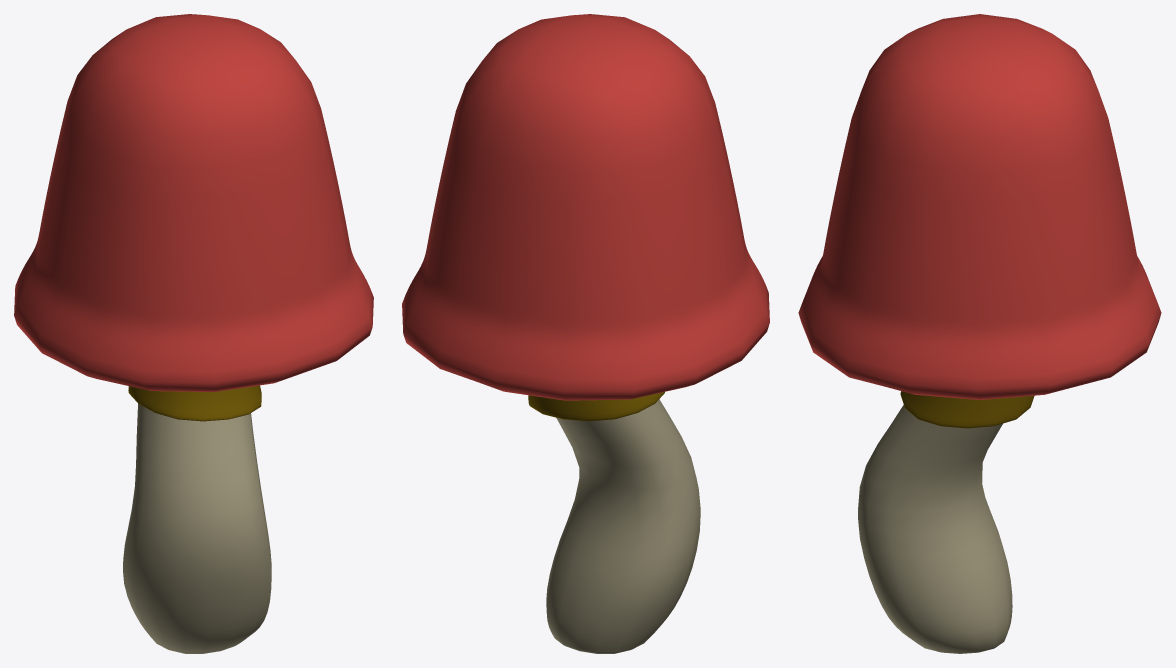
File: Mushroom_1_Small_Brown.fbx
The picture shows the model from 3 angles, left to right: view 1: azimuth 30°, elevation 25°; view 2: azimuth 150°, elevation 25°; view 3: azimuth 270°, elevation 25°; orthographic projection. The views are drawn at different scales.
Parts seen in each view (by area): view 1: pCube4; view 2: pCube4; view 3: pCube4.
Part boxes in pixels (box(x1,y1,x2,y2)): pCube4: box(14, 14, 373, 653); pCube4: box(402, 14, 769, 653); pCube4: box(798, 14, 1161, 653).
Bounding box in the file's own units: 33.1 × 61.11 × 33.1.
